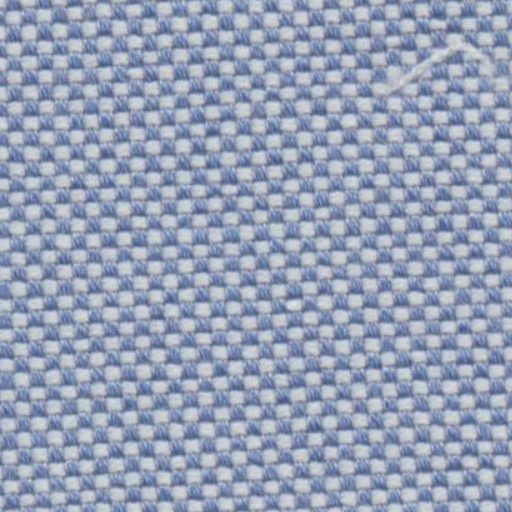DuanSha: (368, 34, 488, 110)
